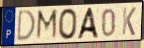0: (100, 7, 117, 37)
A: (75, 6, 100, 40)
D: (16, 9, 37, 43)
K: (121, 6, 137, 37)
M: (35, 9, 59, 42)
O: (58, 7, 79, 41)
